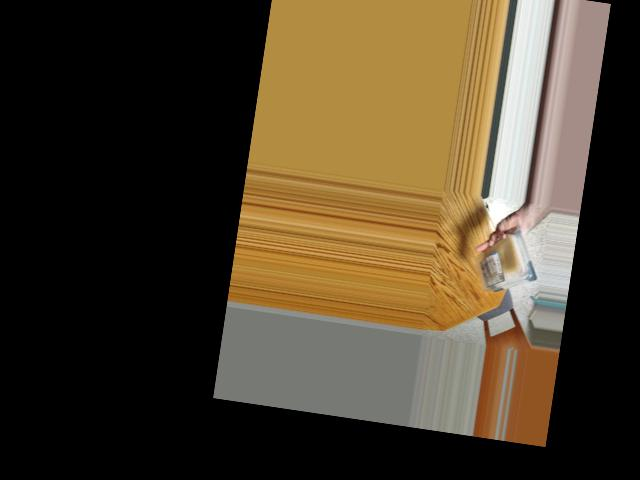cheese: (472, 226, 535, 301)
